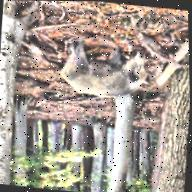boar: (39, 33, 152, 125)
